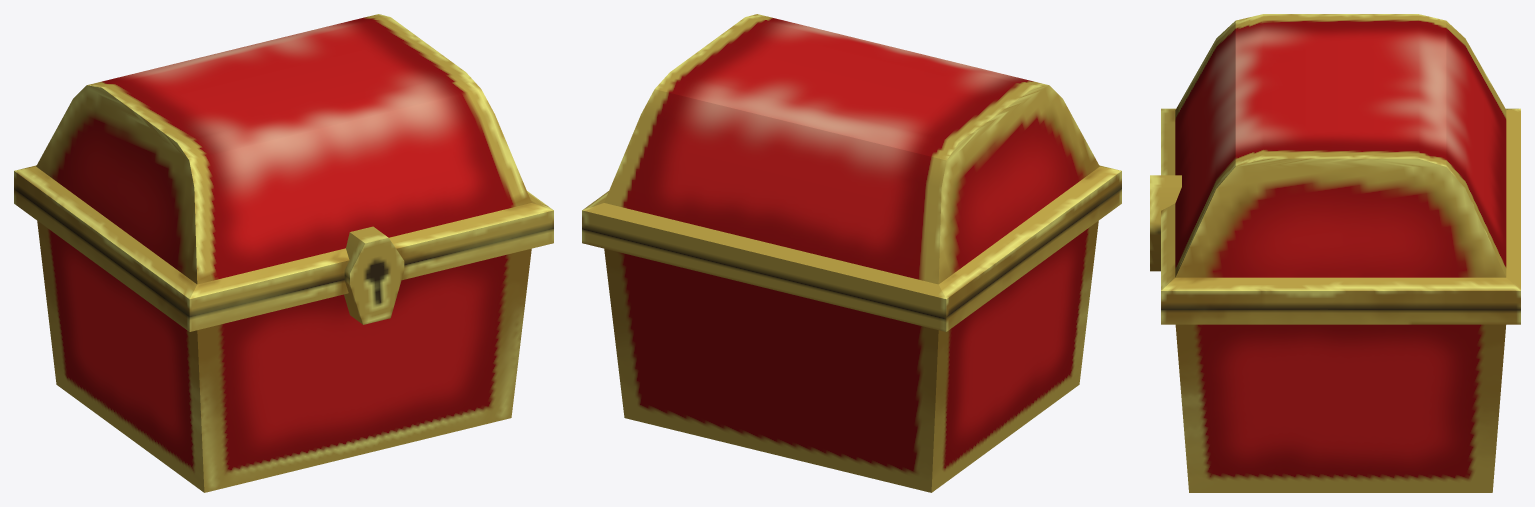
Rendered from TreasureBox.fbx.
The picture shows the model from 3 angles, left to right: view 1: azimuth 30°, elevation 25°; view 2: azimuth 150°, elevation 25°; view 3: azimuth 270°, elevation 25°; orthographic projection. The views are drawn at different scales.
Parts seen in each view (by area): view 1: treasurebox; view 2: treasurebox; view 3: treasurebox.
Part boxes in pixels (<box>): treasurebox: <box>14,14,553,492</box>; treasurebox: <box>582,14,1121,492</box>; treasurebox: <box>1150,14,1520,492</box>.
Size of the model in its own units: 0.7523 by 0.6342 by 0.6467.
Materials: 1 (1 with a texture image).
